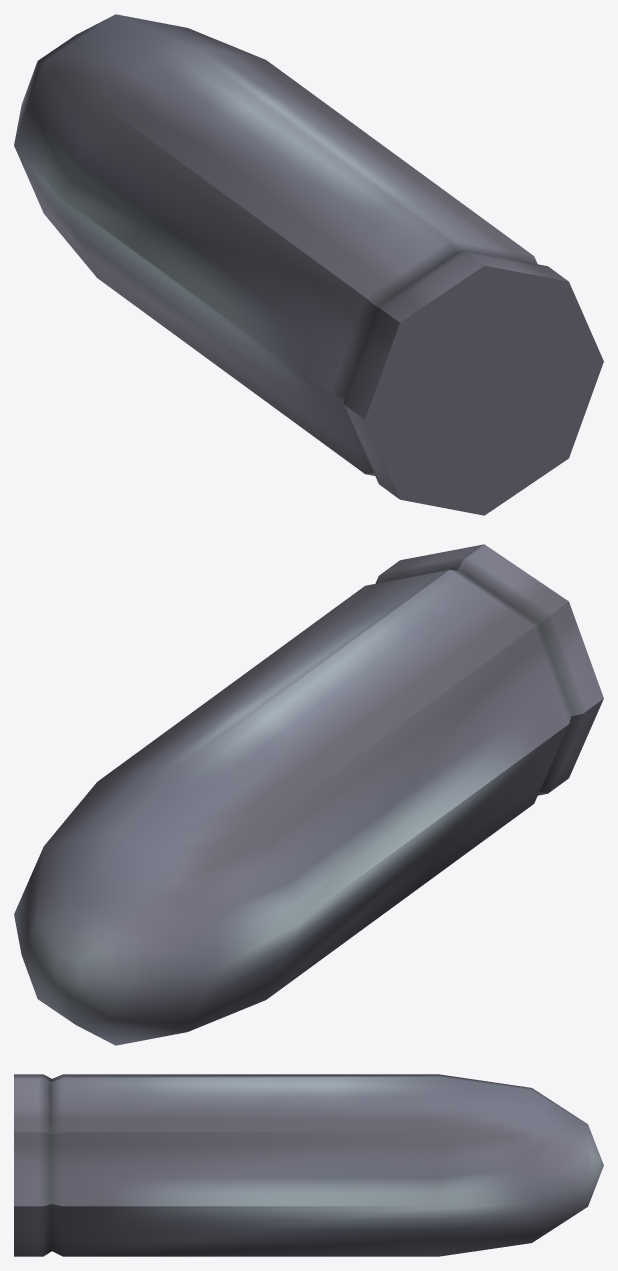
The model's file is KafKa_Bullet.fbx.
3 renders of one model, top to bottom at view 1: azimuth 30°, elevation 25°; view 2: azimuth 150°, elevation 25°; view 3: azimuth 270°, elevation 25°, orthographic. The views are drawn at different scales.
Parts seen in each view (by area): view 1: 卡芙卡_mesh; view 2: 卡芙卡_mesh; view 3: 卡芙卡_mesh.
Part boxes in pixels (x1,y1,x2,y2): 卡芙卡_mesh: (14,14,603,515); 卡芙卡_mesh: (14,544,603,1045); 卡芙卡_mesh: (14,1074,603,1256).
Bounding box in the file's own units: 12 × 12 × 36.51.
1 material, 1 textured.
